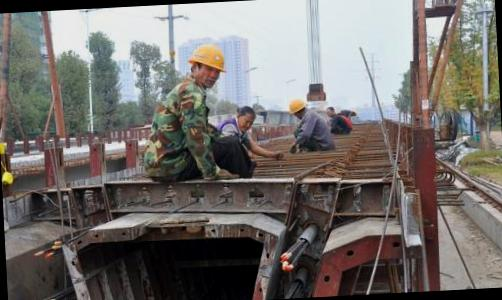no_helmet: (227, 100, 260, 136), (322, 104, 338, 120)
